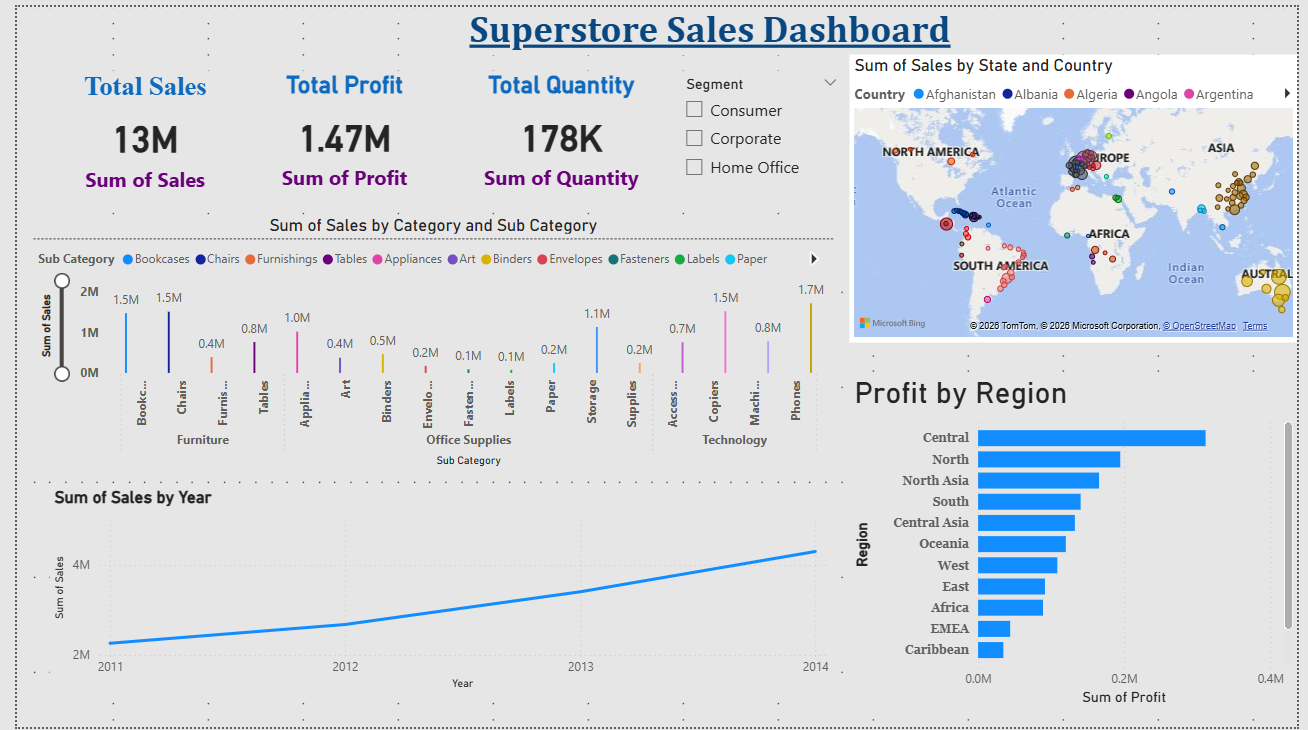

This screenshot's page, from the dashboard's own definition file:
{"tool":"powerbi","page":{"name":"SSD","canvas":[1280,720],"ordinal":0},"visuals":[{"type":"card","title":"Total Sales","fields":{"Values":["Sum(superstore.Sales)"]},"box":[16,64,224,128],"z":0},{"type":"card","title":"Total Profit","fields":{"Values":["Sum(superstore.Profit)"]},"box":[224,64,208,128],"z":1000},{"type":"card","title":"Total Quantity","fields":{"Values":["Sum(superstore.Quantity)"]},"box":[432,64,224,128],"z":2000},{"type":"clusteredColumnChart","title":"Sum of Sales by Category and Sub Category","fields":{"Category":["superstore.Category","superstore.Sub Category"],"Series":["superstore.Sub Category"],"Y":["Sum(superstore.Sales)"]},"box":[16,208,800,256],"z":3000},{"type":"lineChart","fields":{"Category":["superstore.Order Date.Variation.Date Hierarchy.Year","superstore.Order Date.Variation.Date Hierarchy.Quarter","superstore.Order Date.Variation.Date Hierarchy.Month","superstore.Order Date.Variation.Date Hierarchy.Day"],"Y":["Sum(superstore.Sales)"]},"box":[32,480,784,208],"z":4000},{"type":"clusteredBarChart","title":"Profit by Region","fields":{"Category":["superstore.Region"],"Y":["Sum(superstore.Profit)"]},"box":[832,368,448,336],"z":5000},{"type":"slicer","fields":{"Values":["superstore.Segment"]},"box":[656,64,176,128],"z":6000},{"type":"textbox","title":"Superstore Sales Dashboard","box":[448,0,512,48],"z":7000},{"type":"map","fields":{"Category":["superstore.State"],"Series":["superstore.Country"],"Size":["Sum(superstore.Sales)"]},"box":[832,48,448,288],"z":7001}]}

Visuals, with their boxes in screenshot pixels (x1, y1, x2, y2), scaled from the page's 1280x720 canvas onto the 1308x730 screenshot:
"Total Sales" card: bbox=(16, 65, 245, 195)
"Total Profit" card: bbox=(229, 65, 441, 195)
"Total Quantity" card: bbox=(441, 65, 670, 195)
"Sum of Sales by Category and Sub Category" clusteredColumnChart: bbox=(16, 211, 834, 470)
lineChart - superstore.Order Date.Variation.Date Hierarchy.Year x superstore.Order Date.Variation.Date Hierarchy.Quarter: bbox=(33, 487, 834, 698)
"Profit by Region" clusteredBarChart: bbox=(850, 373, 1307, 714)
slicer - superstore.Segment: bbox=(670, 65, 850, 195)
"Superstore Sales Dashboard" textbox: bbox=(458, 0, 981, 49)
map - superstore.State x superstore.Country: bbox=(850, 49, 1307, 341)
